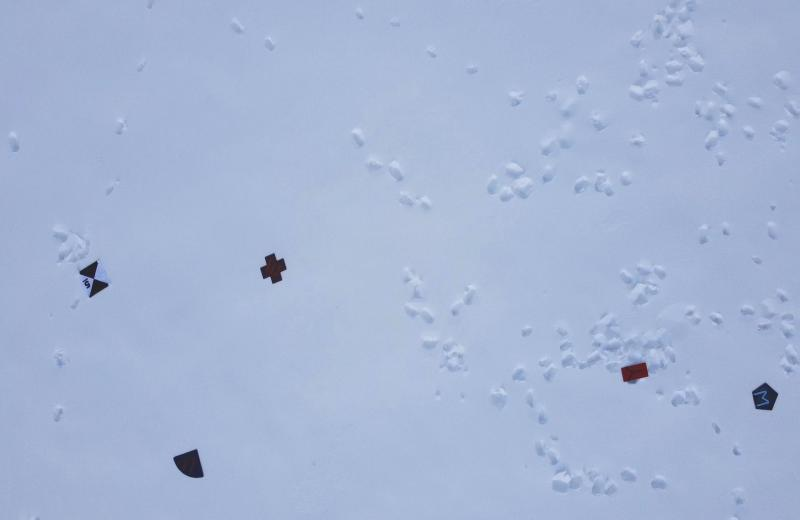Cross: (259, 249, 289, 286)
Pentagon: (749, 376, 780, 415)
Quarter Circle: (170, 446, 205, 484)
Rectangle: (618, 357, 654, 385)
